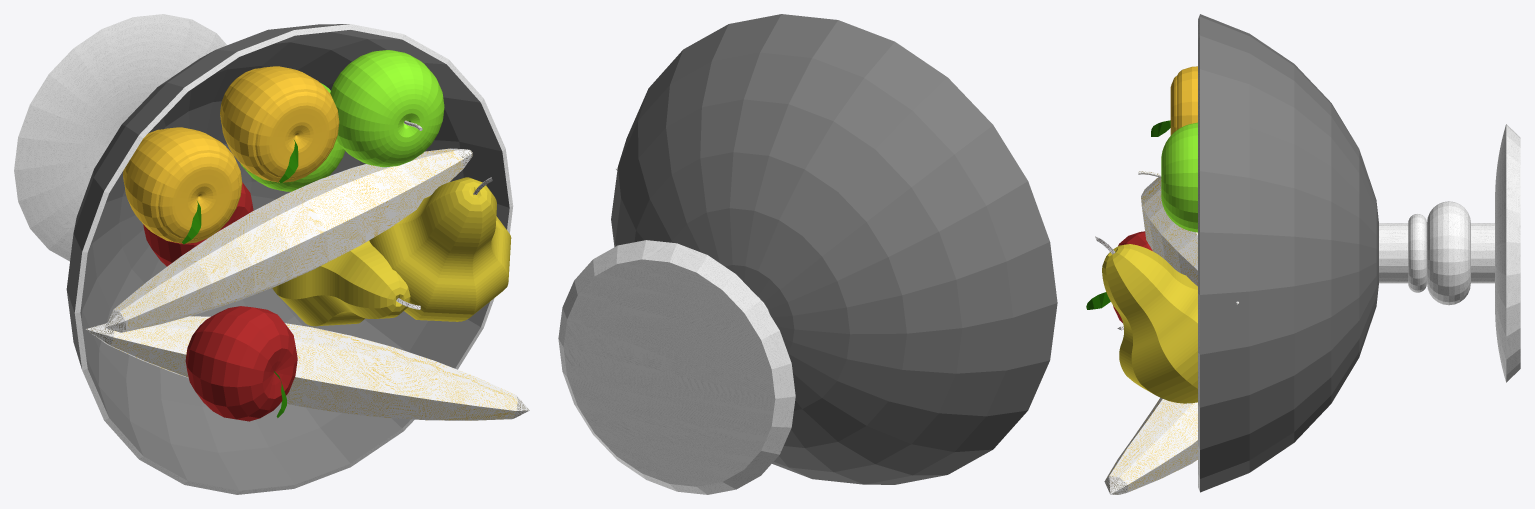
The picture shows the model from 3 angles, left to right: view 1: azimuth 30°, elevation 25°; view 2: azimuth 150°, elevation 25°; view 3: azimuth 270°, elevation 25°; orthographic projection. The views are drawn at different scales.
Parts seen in each view (by area): view 1: bowl of fruit; view 2: bowl of fruit; view 3: bowl of fruit.
Boxes of the visible parts, x1=… form: bowl of fruit: x1=14, y1=14, x2=529, y2=494; bowl of fruit: x1=558, y1=14, x2=1057, y2=494; bowl of fruit: x1=1086, y1=14, x2=1520, y2=494.
Bounding box in the file's own units: 12.07 × 12.07 × 10.91.
